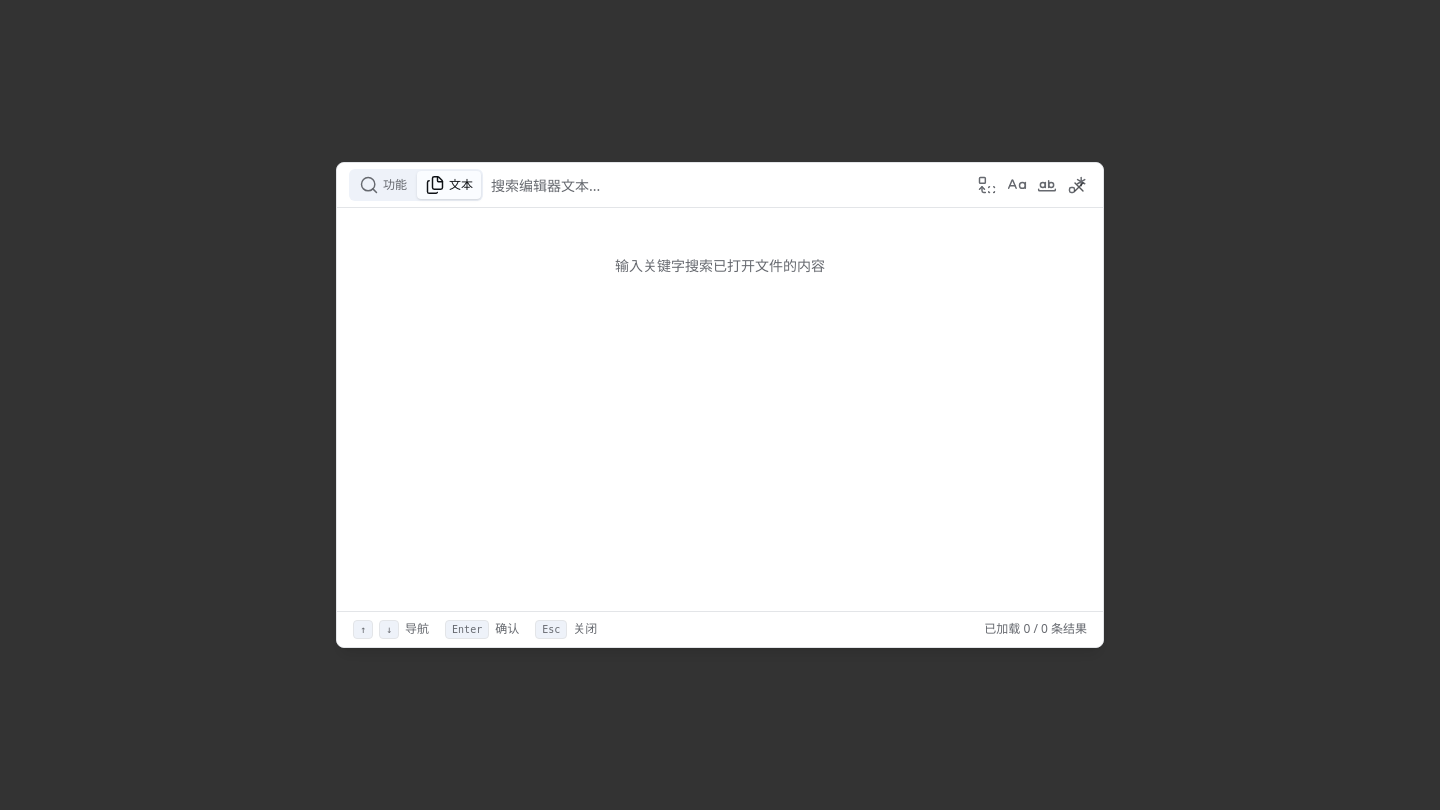
Test: SearchDialog 文本模式匹配选项(Aa/整词/正则) › caseSensitive:开启后仅同大小写命中,再点一次恢复默认
Type "hello" into the dropdown with placeholder "搜索编辑器文本..." at (728, 185), box x1=491 y1=163 x2=965 y2=207
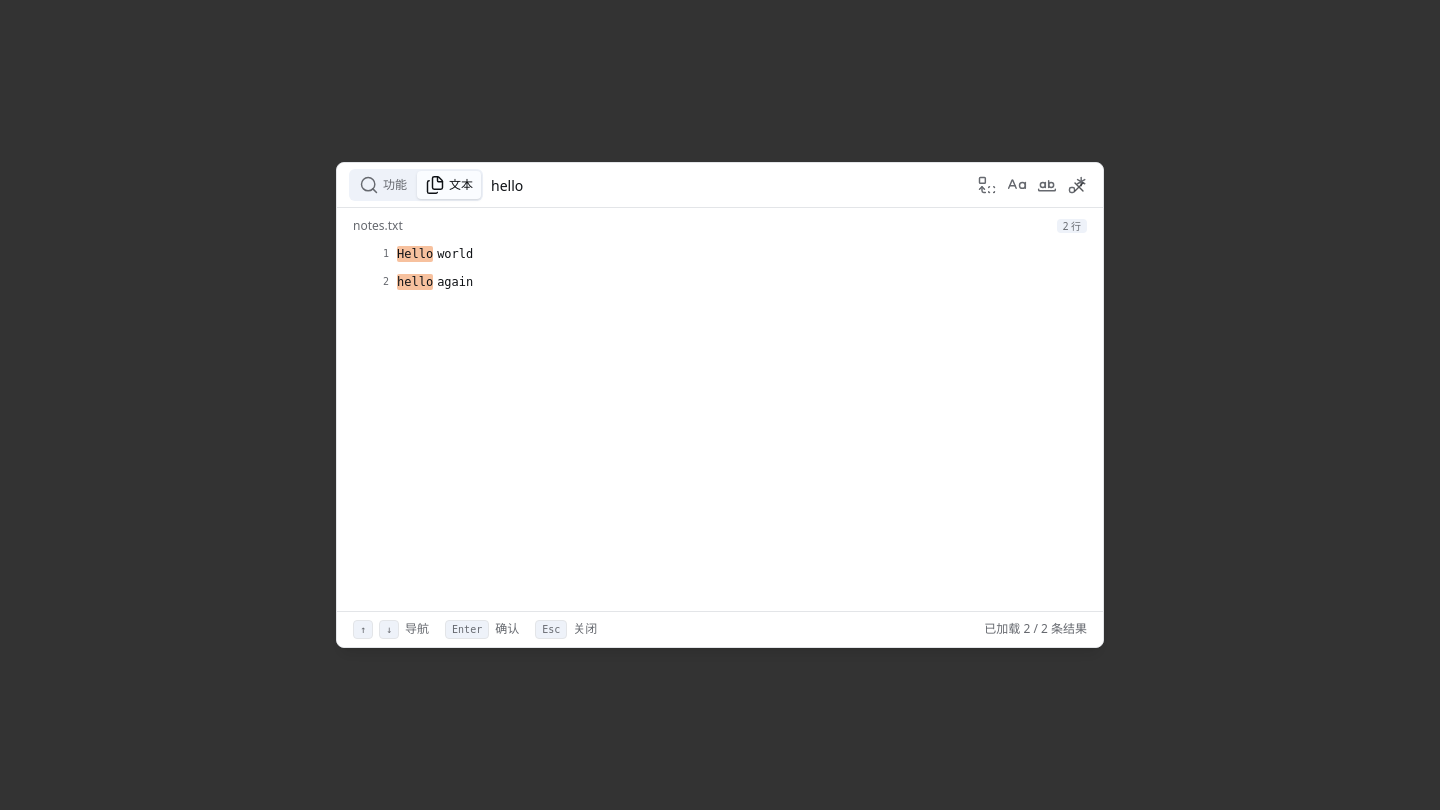
Check: the option "2 hello again" is shown, box x1=383 y1=274 x2=473 y2=290
Check: the option "1 Hello world" is shown, box x1=383 y1=246 x2=473 y2=262
Click the button named "区分大小写" at (1017, 185), box x1=1003 y1=171 x2=1031 y2=199
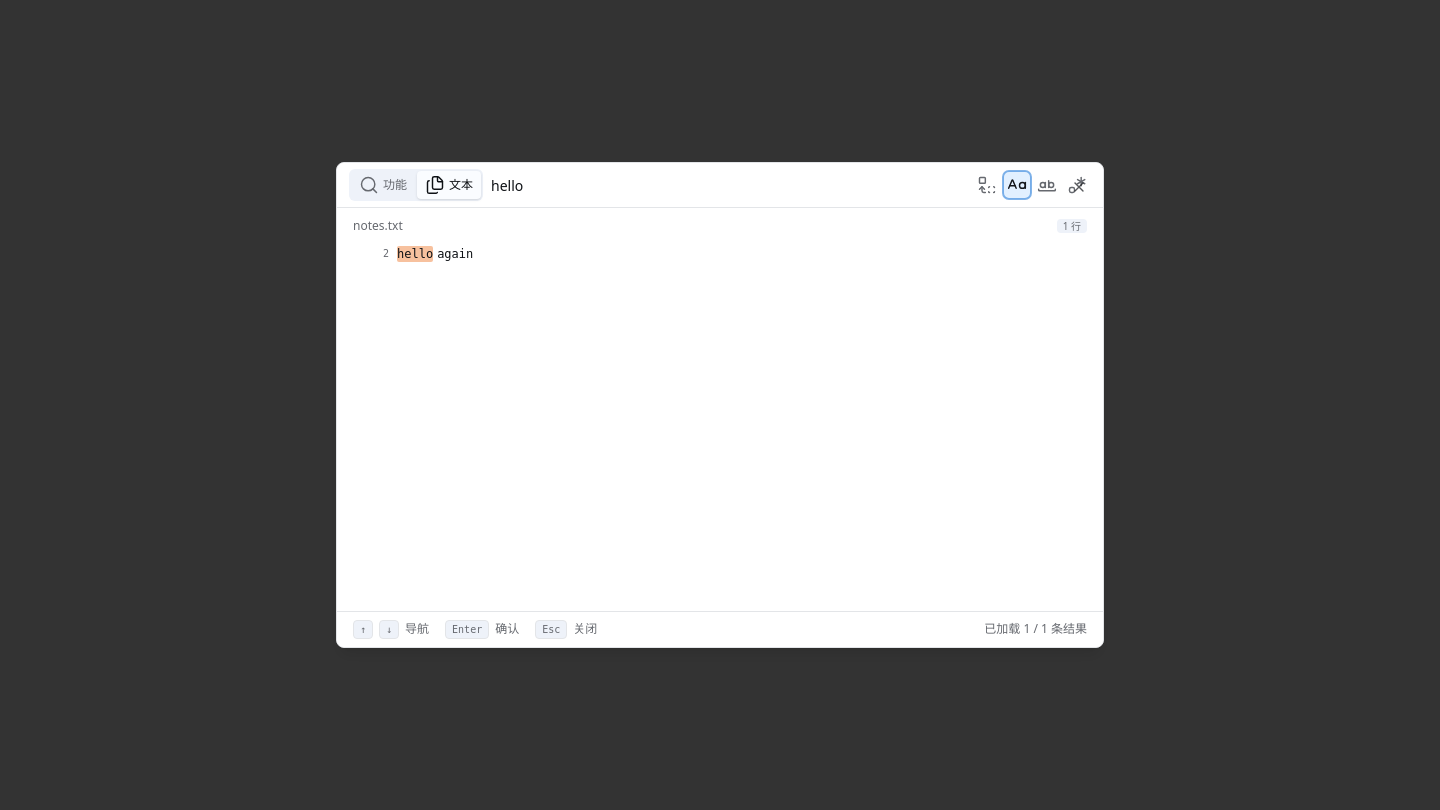
Check: the option "2 hello again" is shown, box x1=383 y1=246 x2=473 y2=262
Check: the option "Hello world" is gone
Click the button named "区分大小写" at (1017, 185), box x1=1003 y1=171 x2=1031 y2=199
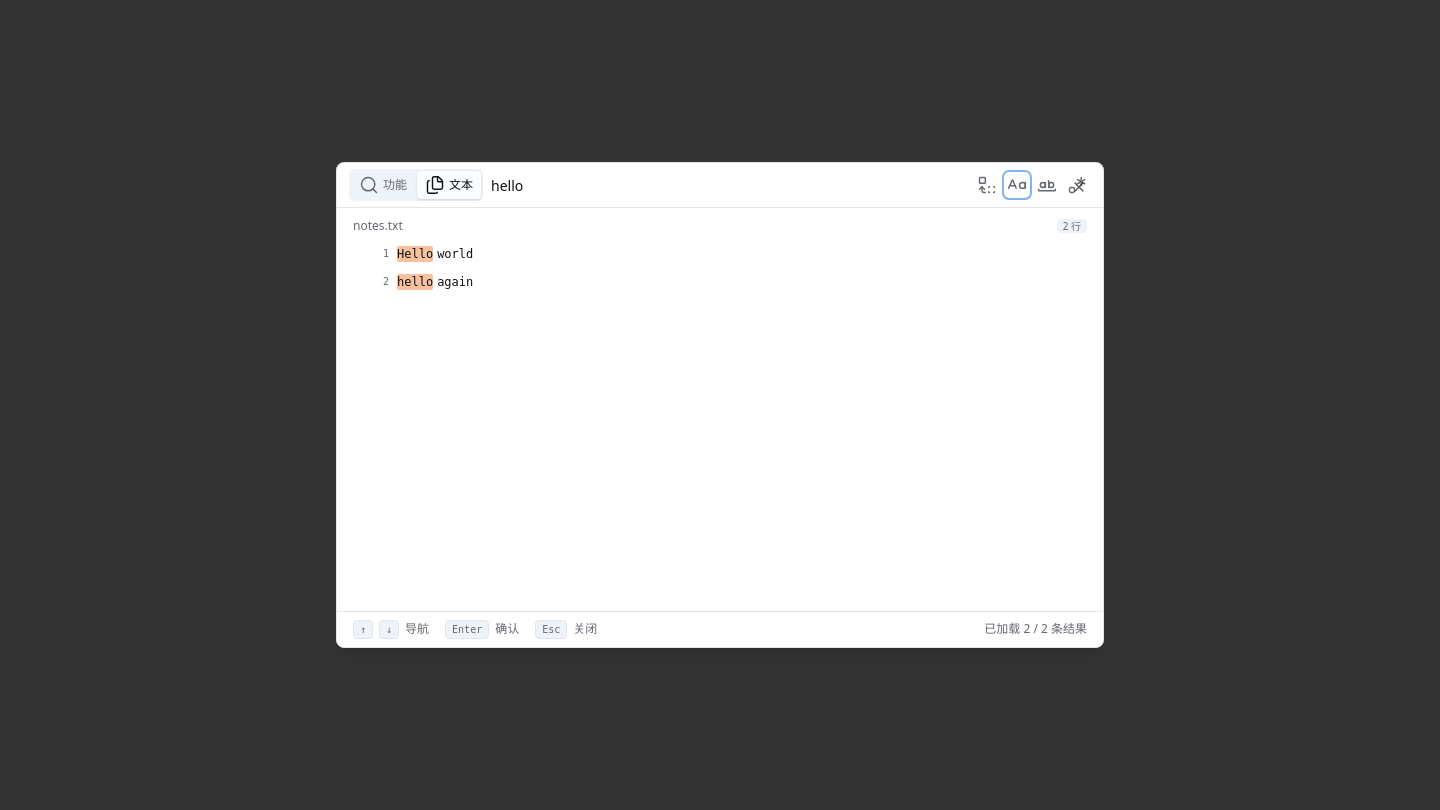
Check: the option "1 Hello world" is shown, box x1=383 y1=246 x2=473 y2=262
